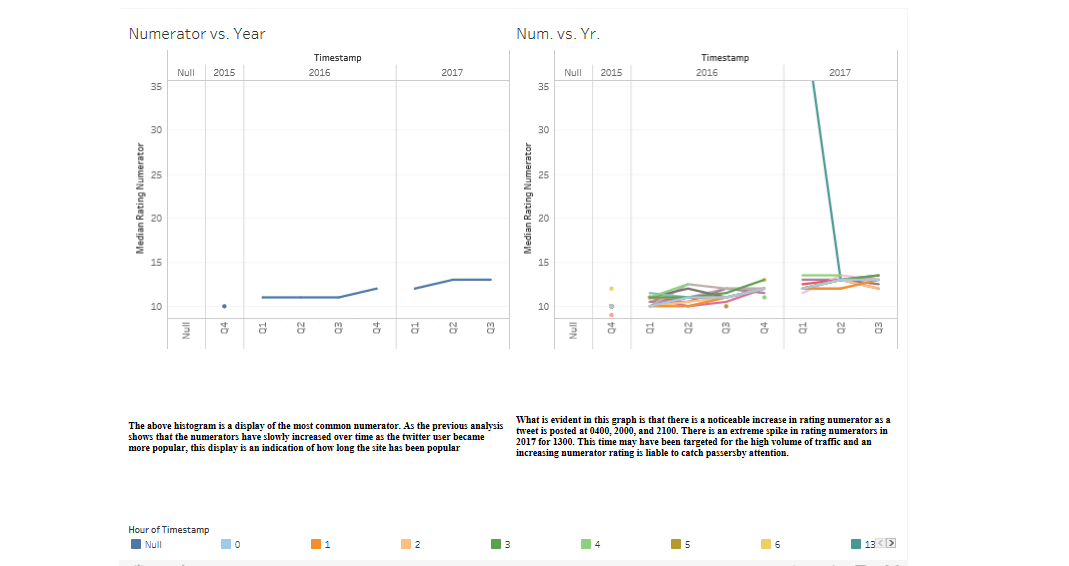

What the dashboard file says about the page in this screenshot:
{"tool":"tableau","page":{"name":"Dashboard 2","canvas":[1000,1000],"units":"permille","ordinal":1},"visuals":[{"type":"worksheet","title":"Num. Vs. Hour","mark":"Automatic","rows":["rating_numerator"],"cols":["timestamp","timestamp"],"box":[7.8,10.4,492.1,612.2]},{"type":"worksheet","title":"Num. vs. Yr.","mark":"Automatic","rows":["rating_numerator"],"cols":["timestamp","timestamp"],"box":[499.9,10.4,492.3,612.2]},{"type":"text","box":[7.8,622.7,492.1,307]},{"type":"text","box":[499.9,622.7,492.3,307]},{"type":"legend","title":"Num. vs. Yr.","param":"[federated.0gf1euj09ccm350zopt5h1q86pwx].[hr:timestamp:ok]","box":[7.8,929.7,984.4,59.9]}]}

Visuals, with their boxes on the dashboard's canvas, which has no fixed pixel size, in thousandths of its width and height (x1, y1, x2, y2). These are canvas units, not pixel positions in the 1069x566 screenshot, which may show the page scaled, cropped or inside an application window:
"Num. Vs. Hour" worksheet: (8,10,500,623)
"Num. vs. Yr." worksheet: (500,10,992,623)
text: (8,623,500,930)
text: (500,623,992,930)
"Num. vs. Yr." legend: (8,930,992,990)
